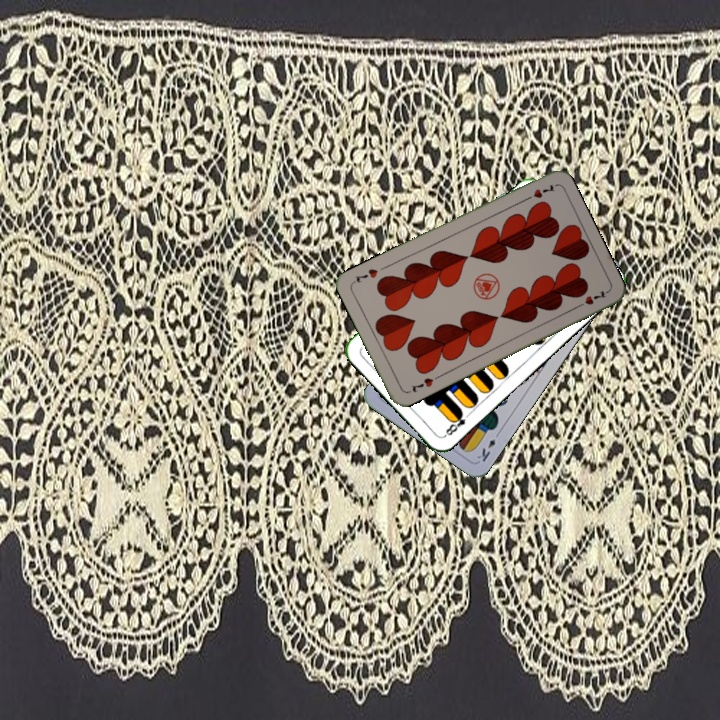E8: (440, 406, 473, 439)
EK: (473, 427, 503, 464)
H7: (520, 181, 558, 204), (407, 374, 436, 395)
